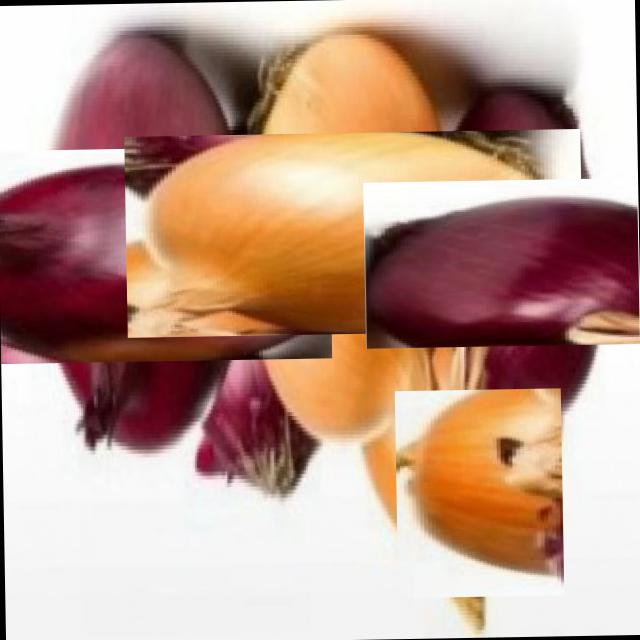Onion: (186, 66, 521, 401), (0, 100, 287, 410), (407, 132, 640, 392), (384, 398, 574, 588)
